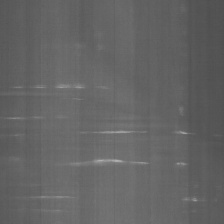waist_folding: (24, 25, 202, 212)
